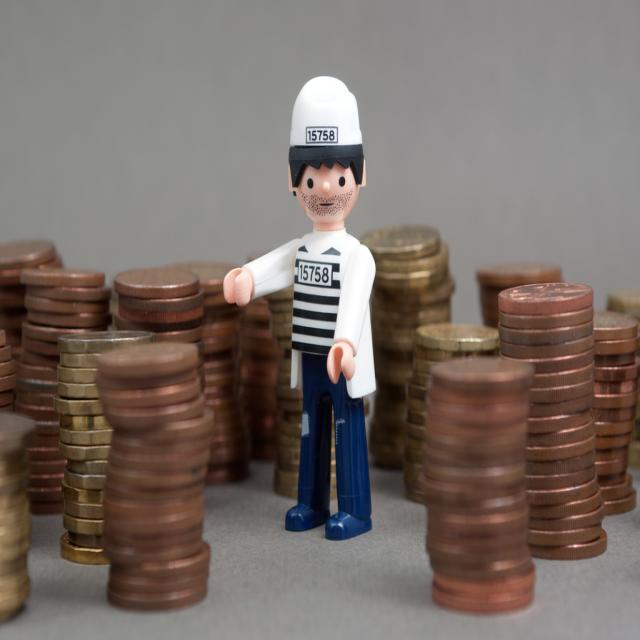Coin: (0, 236, 640, 614)
